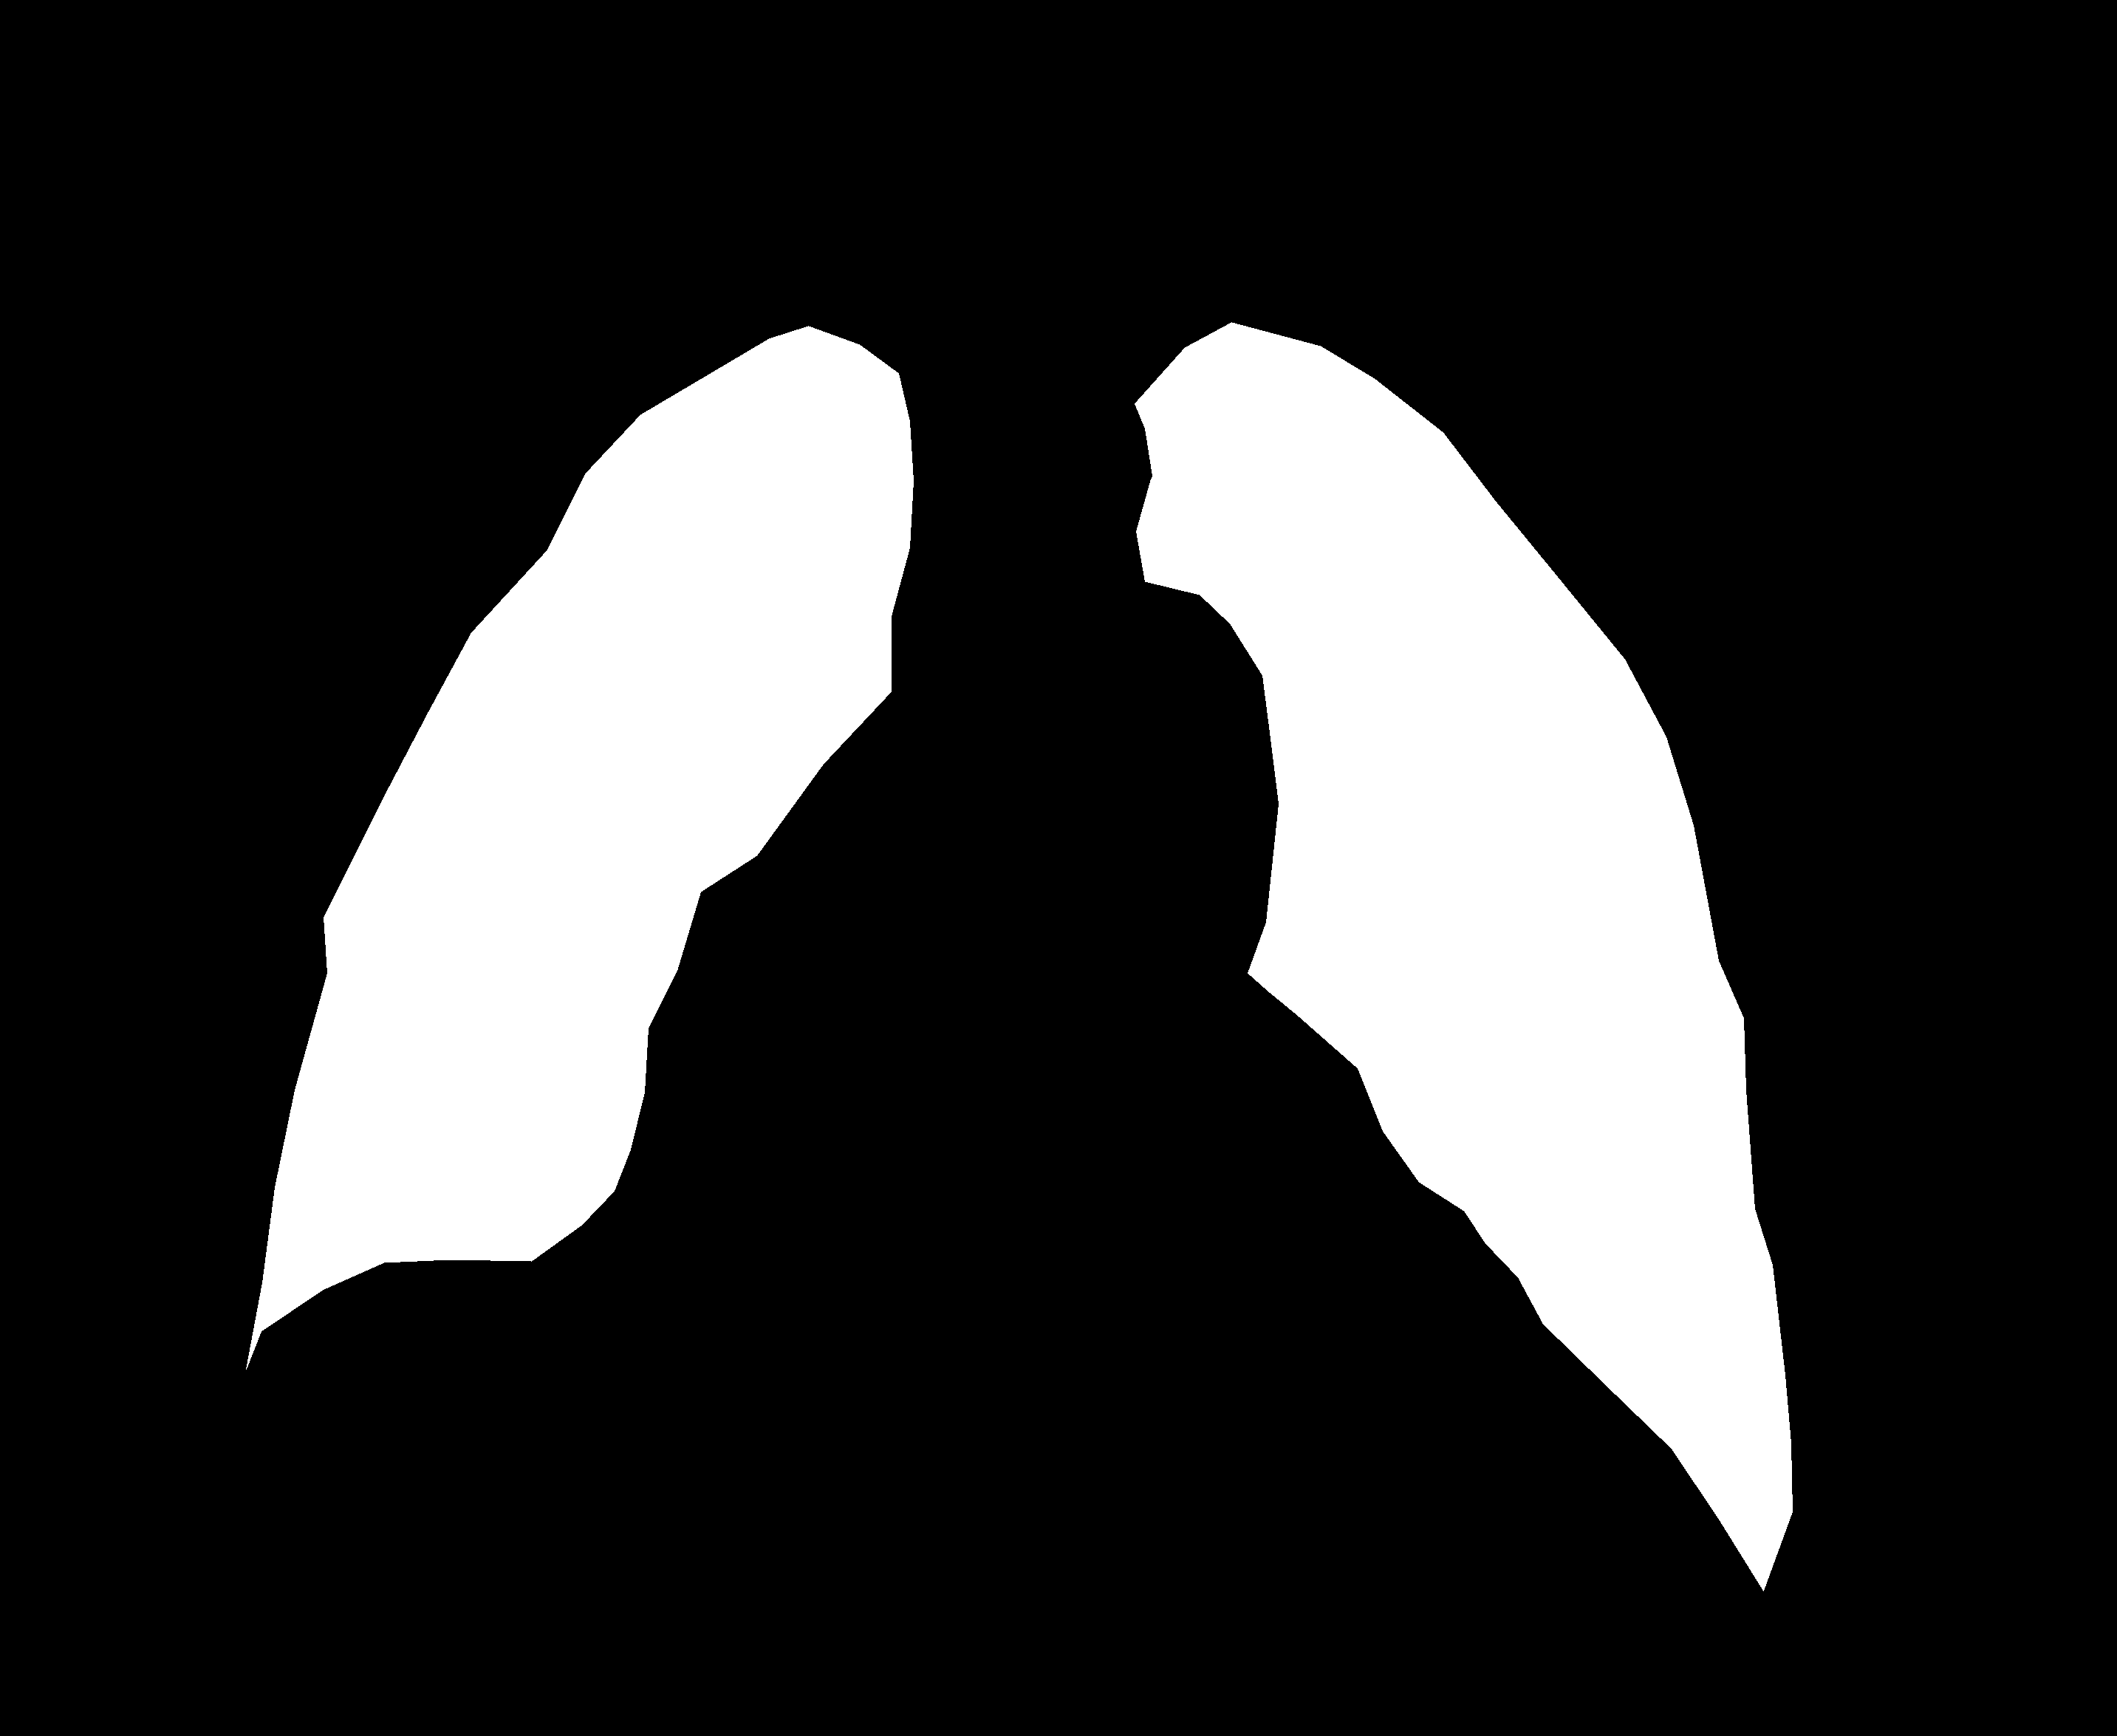heart: (570, 769, 1584, 1458)
left_lung: (246, 325, 913, 1368)
right_lung: (1134, 322, 1792, 1590)
